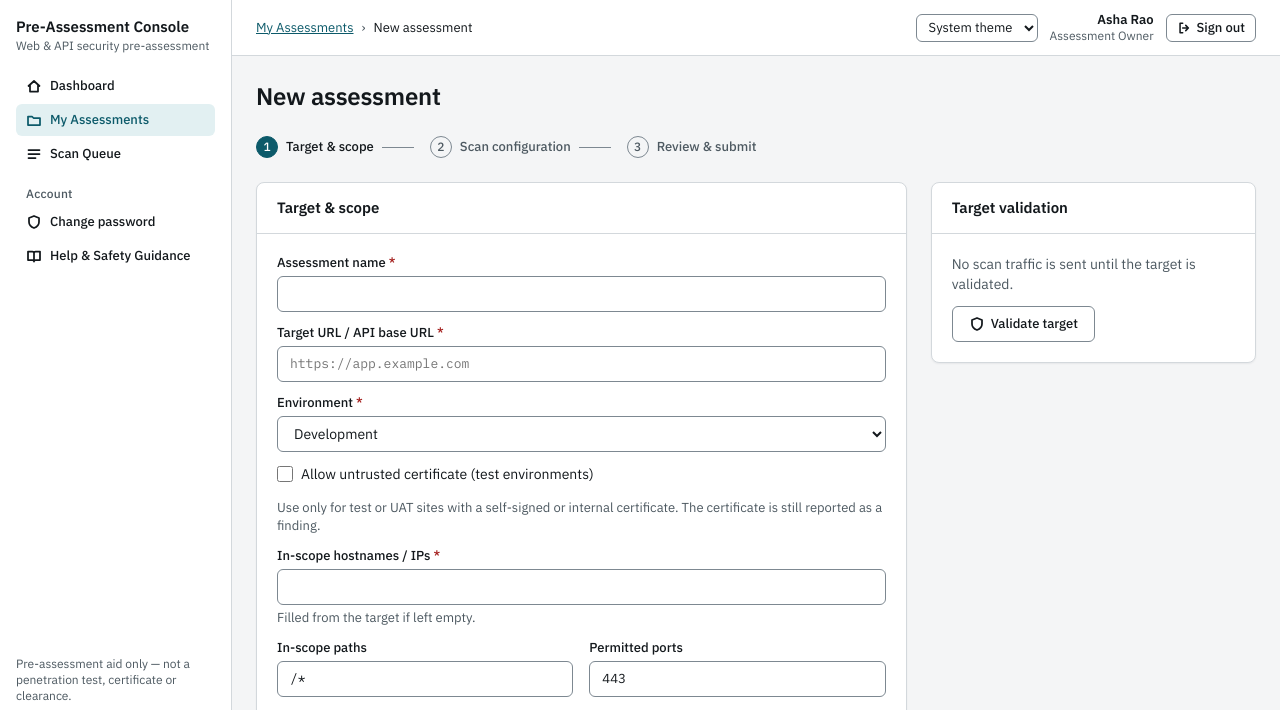
it: blocked validation shows exact copy and offers no continue button
Type "Internal" into the field labelled "Assessment name *".
click(581, 294); type("Internal")  # box [277,276,886,312]
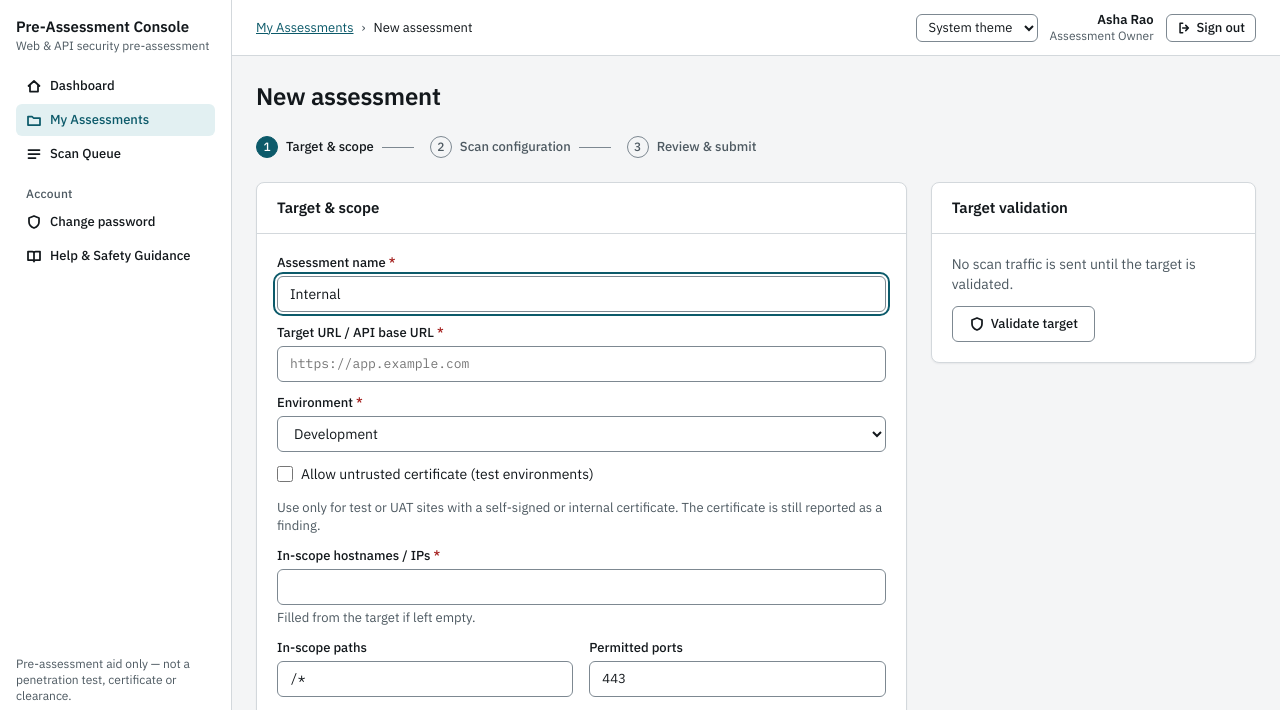
Type "http://10.0.0.1" into the field labelled "Target URL / API base URL *".
click(581, 364); type("http://10.0.0.1")  # box [277,346,886,382]
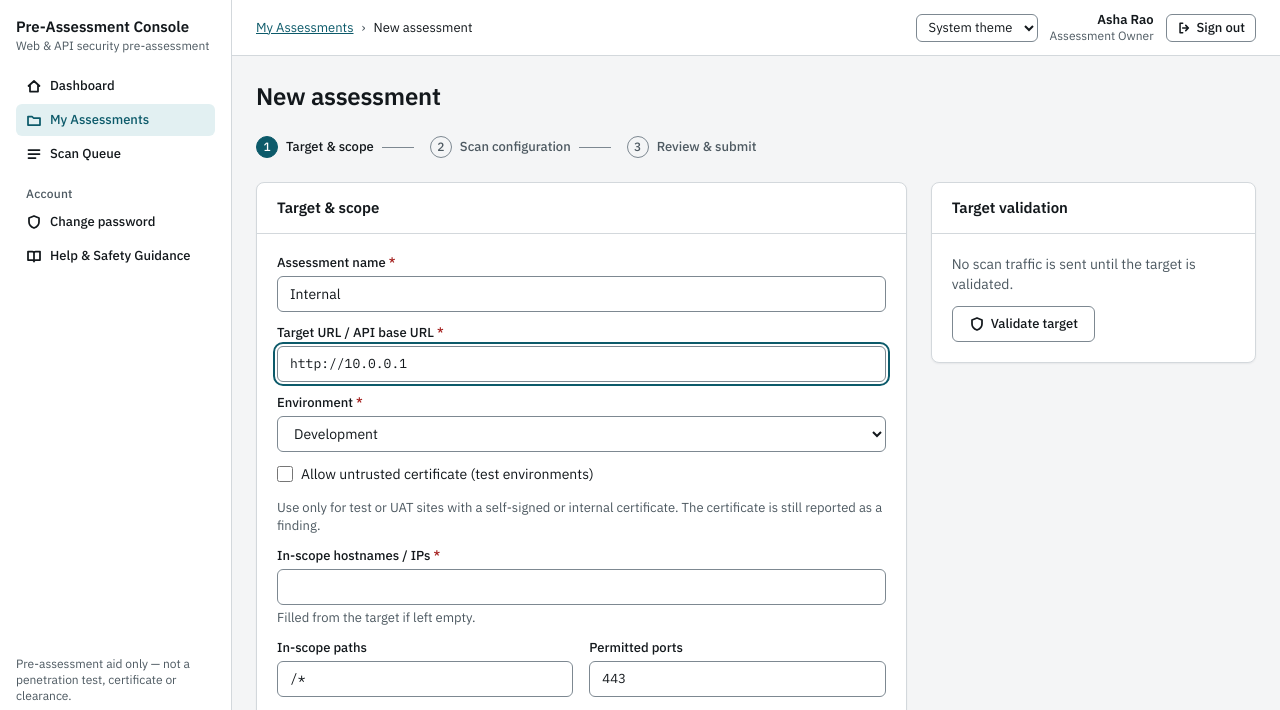
Click the button "Validate target".
click(1023, 324)  # box [952,306,1095,342]
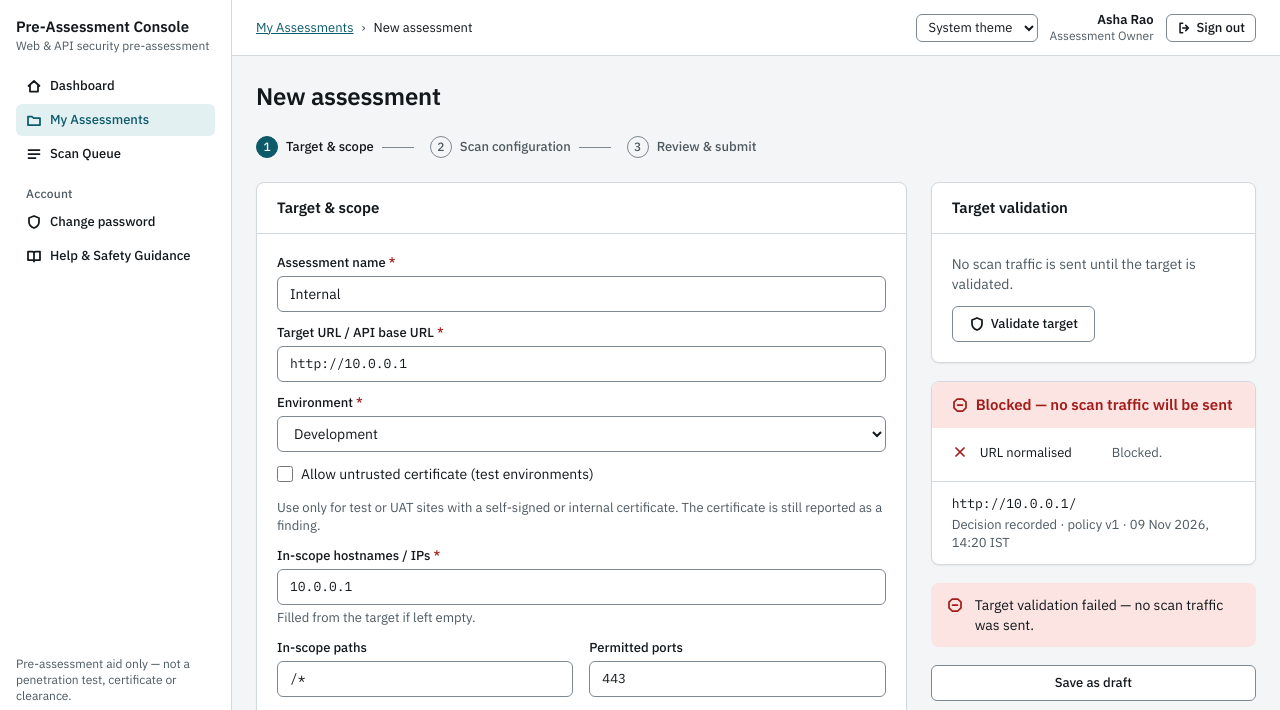
Expected: the text "Target validation failed — no scan traffic was sent." is shown, [975,595,1240,635]
Expected: the button "Save as draft" is shown, [931,665,1256,701]
